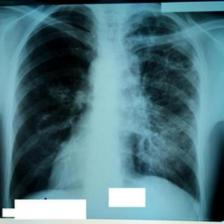tuberculosis: (3, 5, 204, 209)
